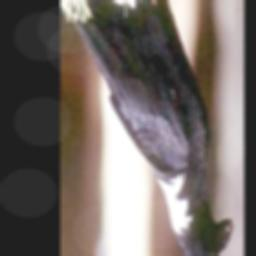Crow: (67, 0, 235, 256)
